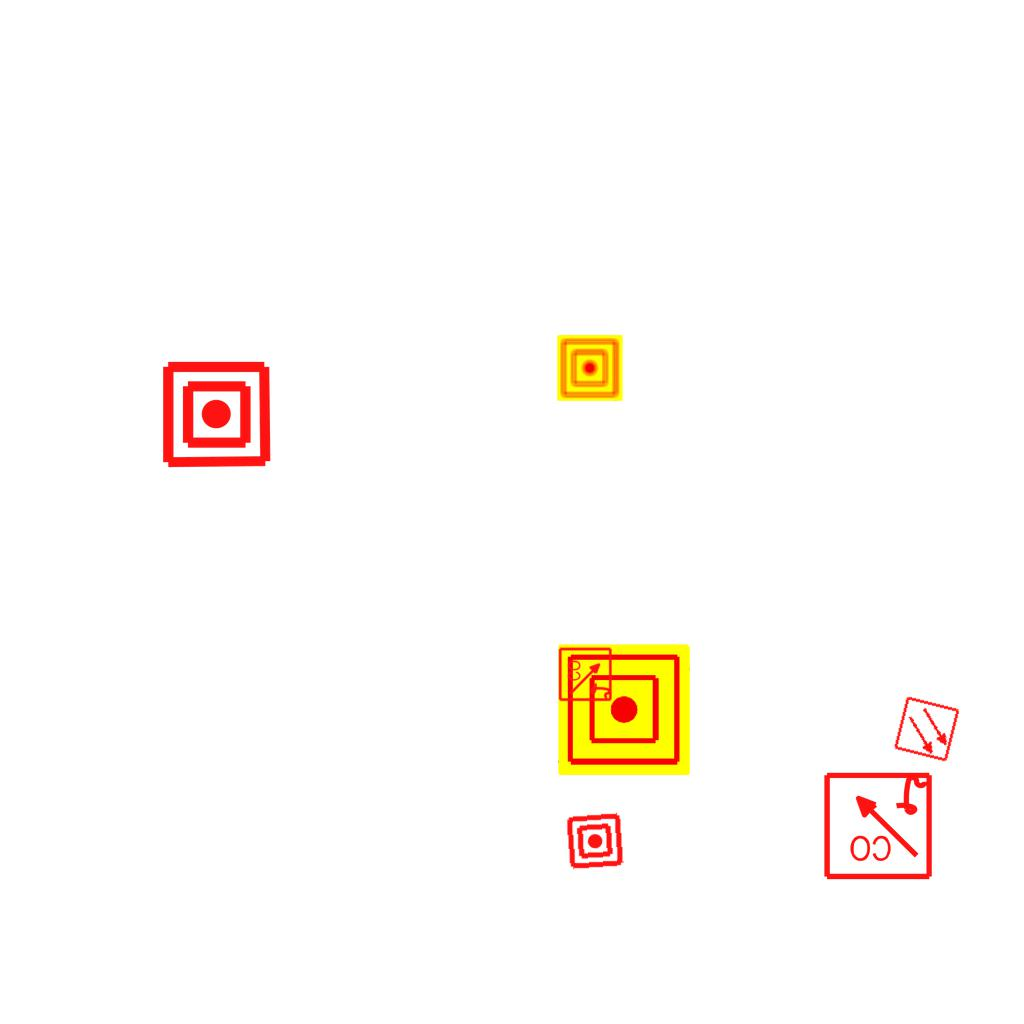NAM-Nichtautomatischer_Melder: (558, 644, 690, 776), (160, 358, 273, 471), (557, 335, 623, 401), (565, 811, 625, 871)
RMO_Rauchmelder_optischer: (893, 695, 961, 763)
ROA_Rauchmelder_optisch_mit_Signalgeber_(Sockelsirene): (821, 768, 934, 881), (558, 646, 614, 702)
